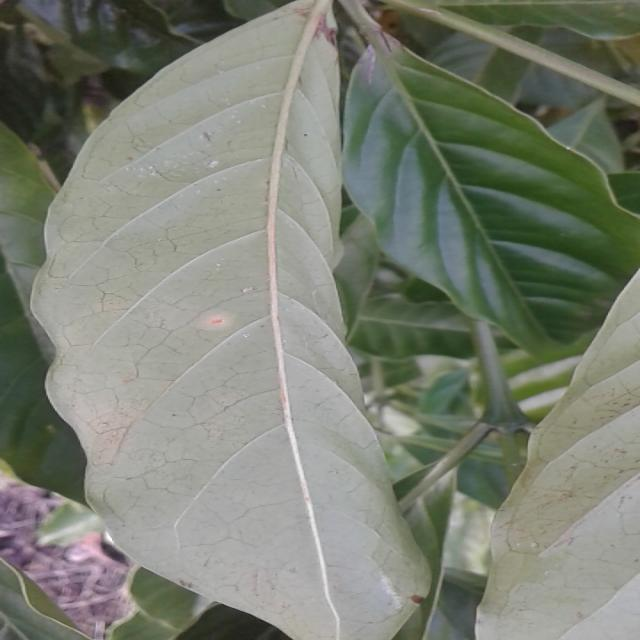Enfermedad-Roya: (28, 0, 480, 640)
